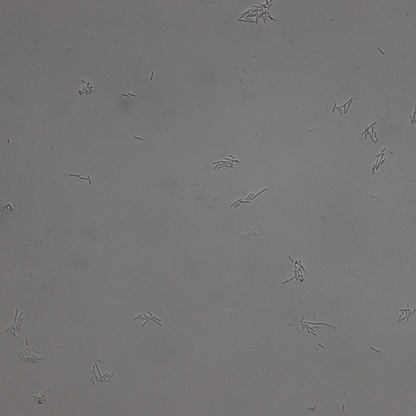R(colony): (237, 1, 276, 23), (230, 188, 267, 209), (300, 317, 337, 336), (282, 256, 306, 284), (19, 338, 43, 364), (91, 359, 114, 385), (6, 310, 24, 338), (370, 146, 386, 174), (213, 154, 239, 171), (134, 311, 162, 326), (332, 96, 354, 115), (396, 302, 416, 322), (362, 120, 379, 143), (78, 79, 95, 96)
